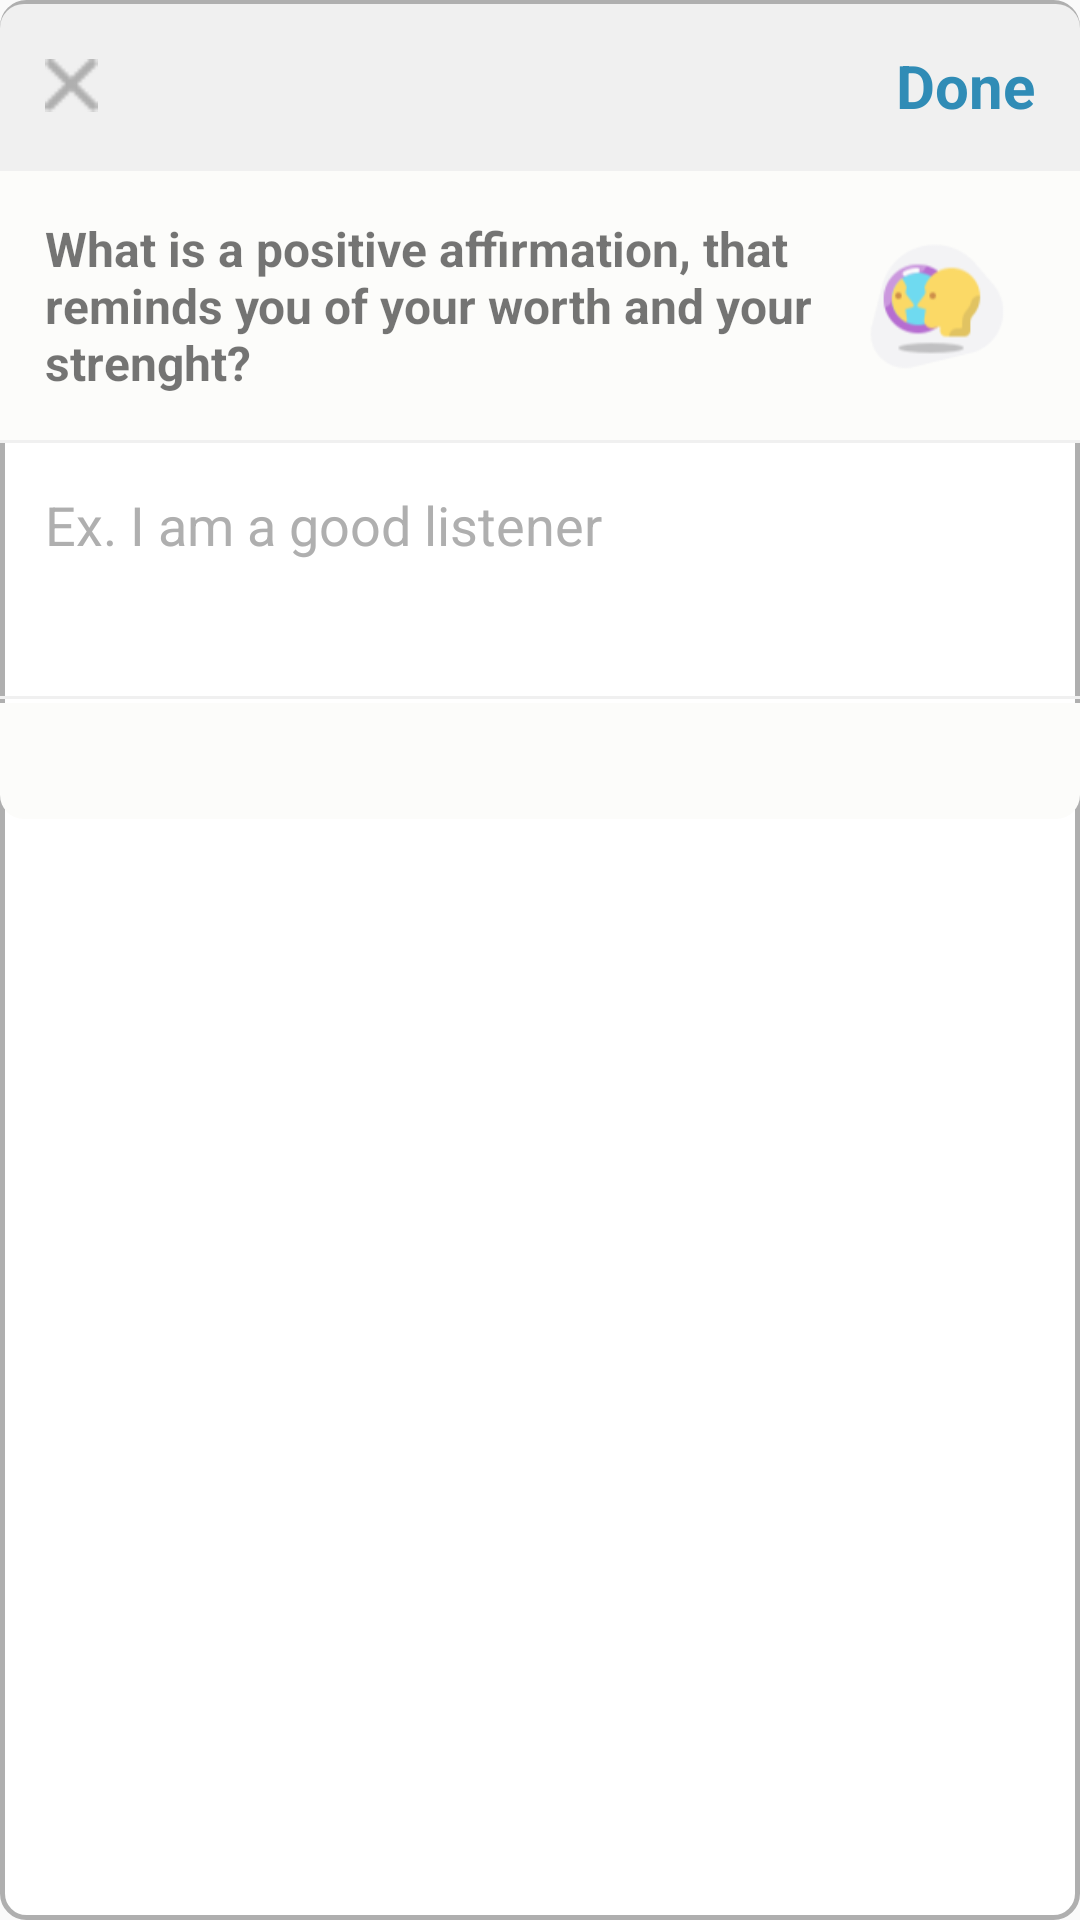

Icon click points for this 1080×1920 phone screenshot, format point (x, y):
close: point (71, 85)
reflection task: point (932, 309)
